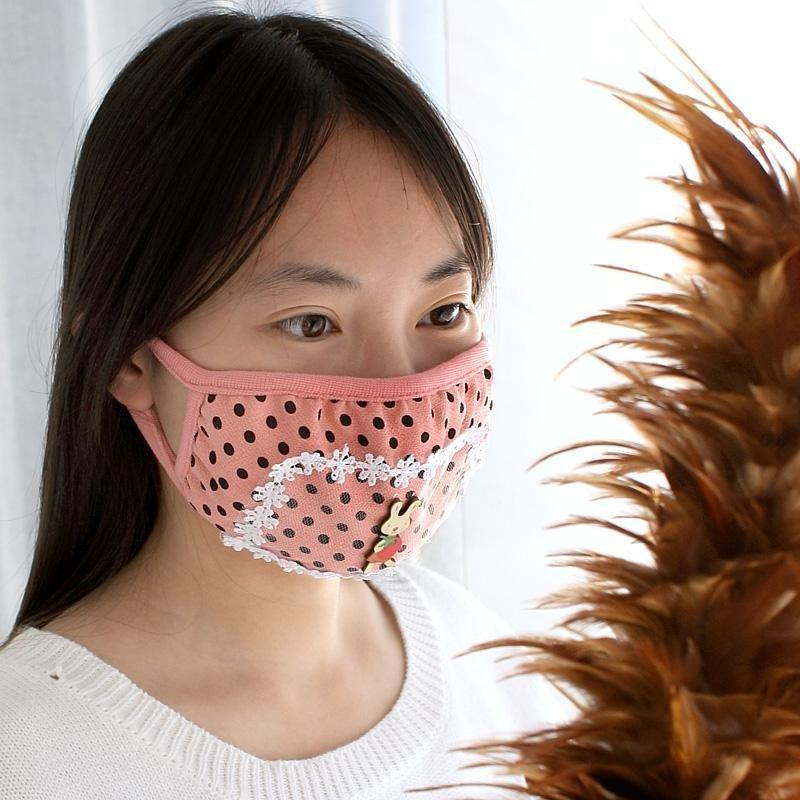OK: (163, 244, 498, 579)
